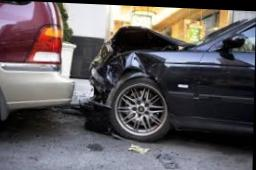Bonnet: (90, 23, 196, 68)
Bumper: (79, 68, 115, 133)
Fender: (105, 49, 171, 88)
